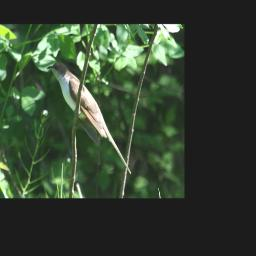Cuckoo: (47, 61, 133, 176)
